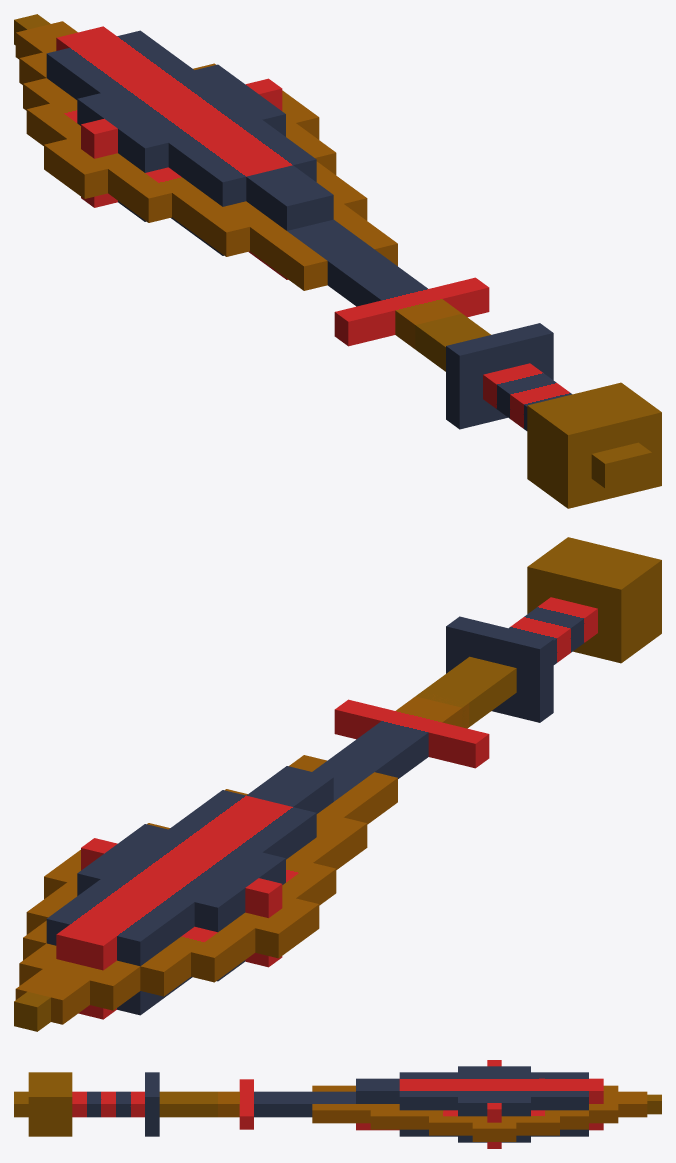
Rendered from 8f838301-bbc7-4eac-8dc2-e06dfd481bde.gltf.
3 views of the same model, one above another, from view 1: azimuth 30°, elevation 25°; view 2: azimuth 150°, elevation 25°; view 3: azimuth 270°, elevation 25° (orthographic). The views are drawn at different scales.
Visible parts, largest first — view 1: blade-Local, Equip_Right_Hand-Local; view 2: blade-Local, Equip_Right_Hand-Local, Handle-Local; view 3: blade-Local, Equip_Right_Hand-Local, Handle-Local.
Boxes of the visible parts, box(x1,y1,x2,y2) form: blade-Local: box(15, 21, 489, 348); Equip_Right_Hand-Local: box(415, 313, 661, 508); blade-Local: box(15, 691, 489, 1024); Equip_Right_Hand-Local: box(416, 537, 661, 727); Handle-Local: box(14, 991, 50, 1031); blade-Local: box(218, 1060, 647, 1148); Equip_Right_Hand-Local: box(14, 1072, 217, 1136); Handle-Local: box(647, 1094, 661, 1114).
Size of the model in its own units: 10 by 3 by 44.48.
3 materials, 3 textured.
